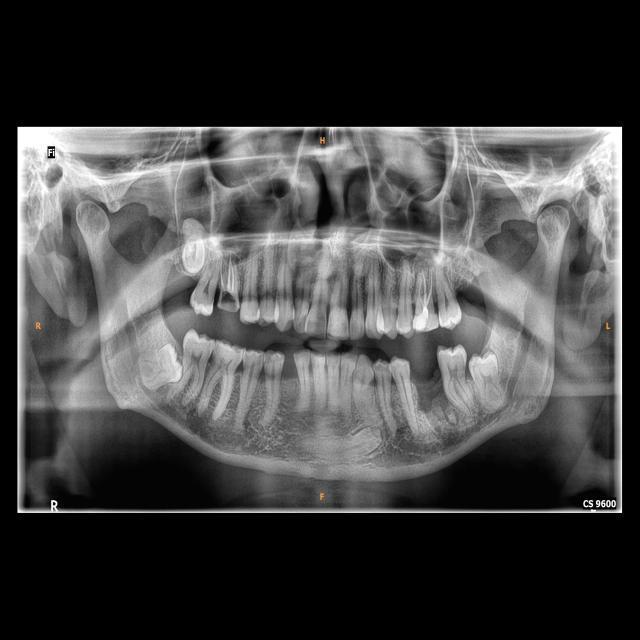dentin-curugu: (217, 290, 240, 313)
dolgu: (412, 308, 437, 332)
kanal-tedavisi: (416, 271, 434, 308), (220, 257, 238, 292)
